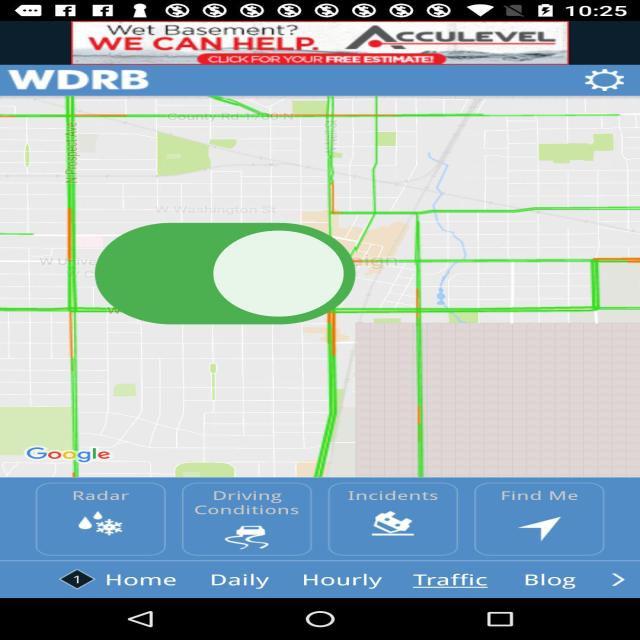social proof: (83, 184, 367, 371)
